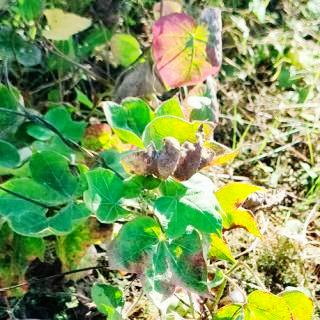blight: (104, 213, 230, 313)
curl: (0, 144, 91, 256)
